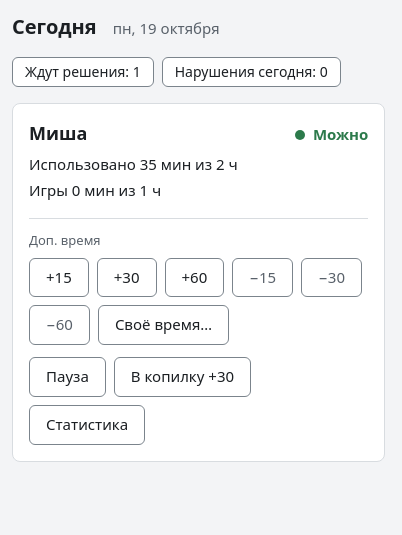
Test: Today: добавить время › «Отменить» возвращает прежний лимит через UndoExtra
The image size is (402, 535).
Click the button "+30".
click(127, 278)  # box [97, 258, 157, 298]
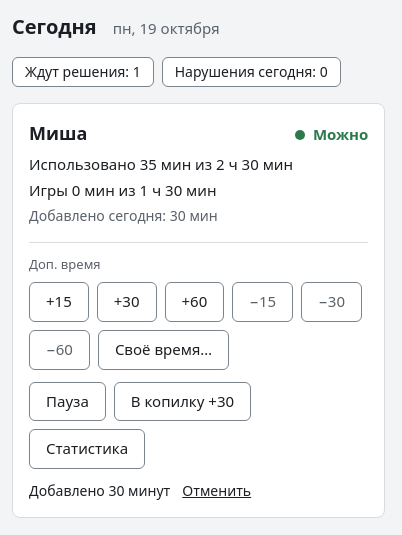
Click the button "Отменить".
click(217, 491)  # box [182, 481, 251, 501]
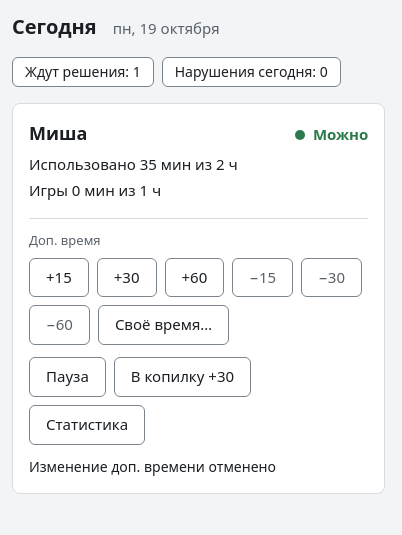
Check: the text "Использовано 35 мин из 2 ч" is shown, box [29, 154, 238, 174]
Check: the text "Изменение доп. времени отменено" is shown, box [29, 457, 276, 477]
Check: the button "Отменить" is gone
